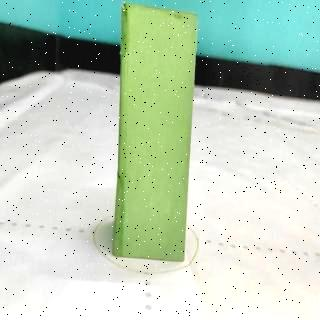greenbox: (115, 2, 202, 262)
